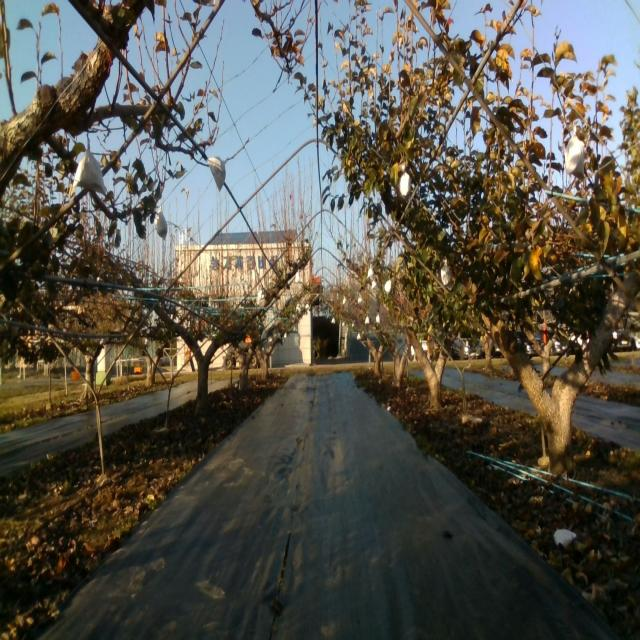pearbags: (73, 148, 106, 194), (563, 129, 586, 180), (208, 154, 225, 191), (153, 208, 168, 242), (399, 173, 412, 200), (441, 262, 452, 289)
